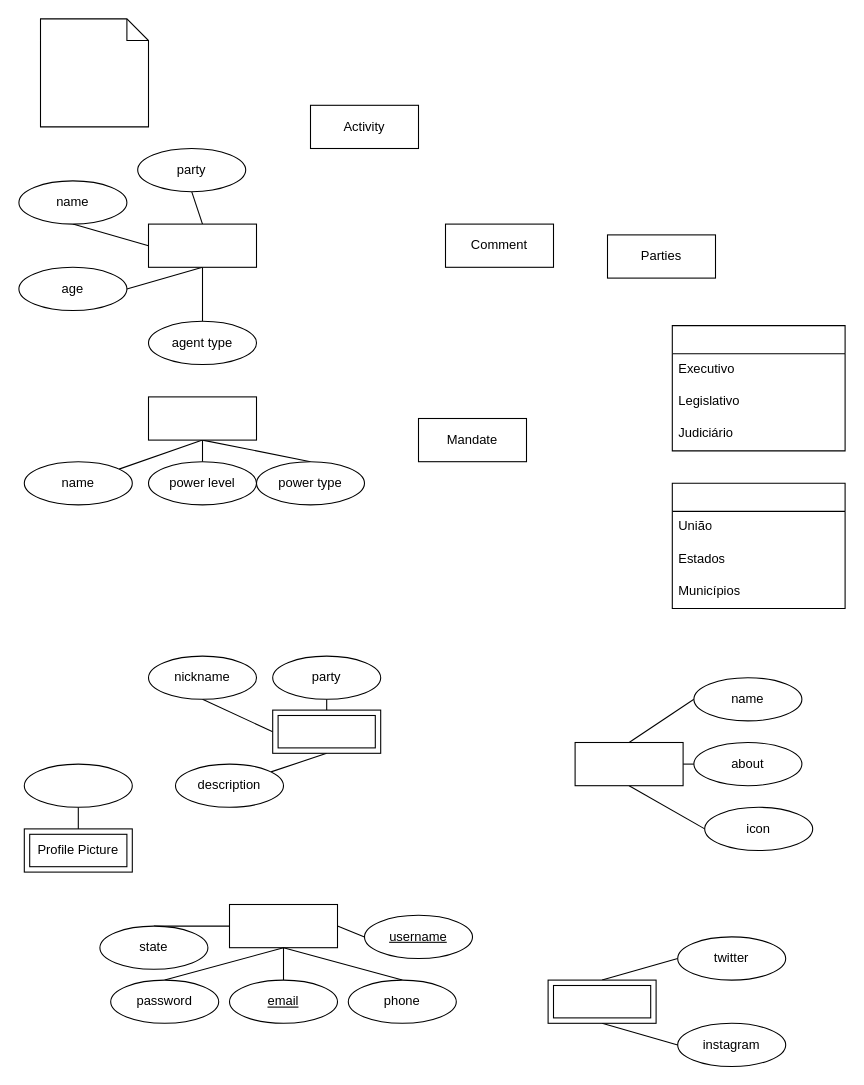
Image size: 864x1085. Some labels were removed from this diagram. The box of each missing label's shape, as (x1, y1, x2, y2) in pixels:
Base Institucional: (39, 18, 148, 127)
Ideology: (574, 741, 683, 786)
Institution: (147, 396, 256, 440)
pic path: (23, 763, 132, 807)
Politician: (147, 223, 256, 267)
Power Levels: (671, 482, 845, 609)
Power Types: (671, 325, 845, 451)
User: (228, 903, 338, 948)
User Profile: (272, 709, 381, 753)
User Socials: (547, 979, 656, 1023)
